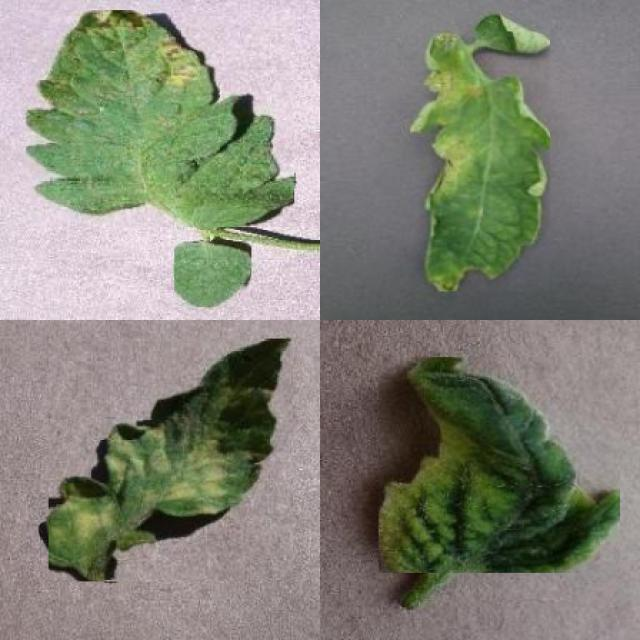Healthy: (175, 242, 252, 307)
Late Blight: (407, 32, 550, 292)
Leaf Mold: (48, 338, 293, 582)
Septoria: (26, 10, 295, 227)
Yellow Leaf Curl Virus: (379, 357, 620, 573)
